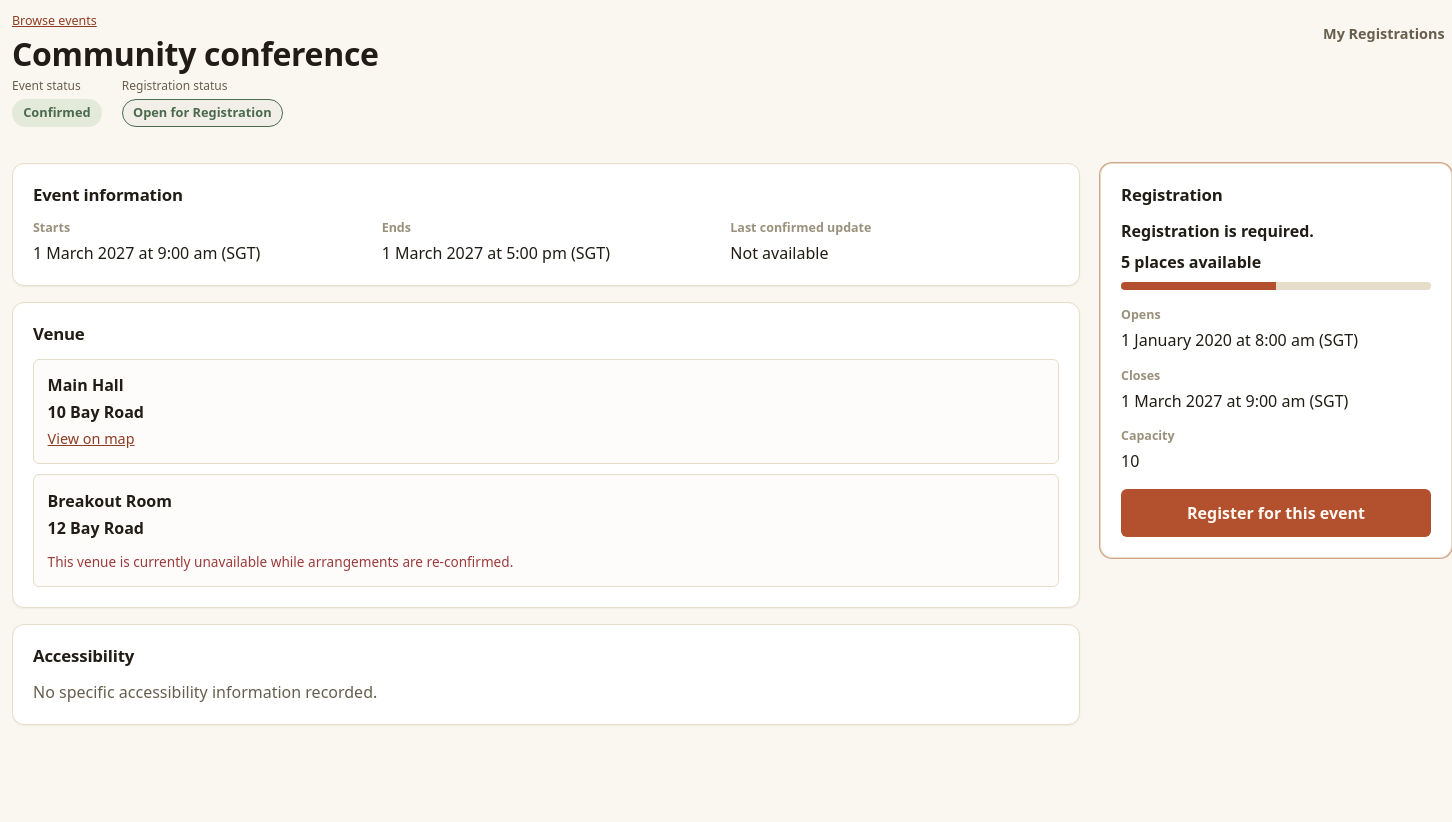
AT09 AT03 registration confirmation › AT03 AT01 (negative): a rejected registration shows its error and no confirmation
The width and height of the screenshot is (1452, 822).
Click the button "Register for this event" at (1276, 513), box [1121,489,1431,537]
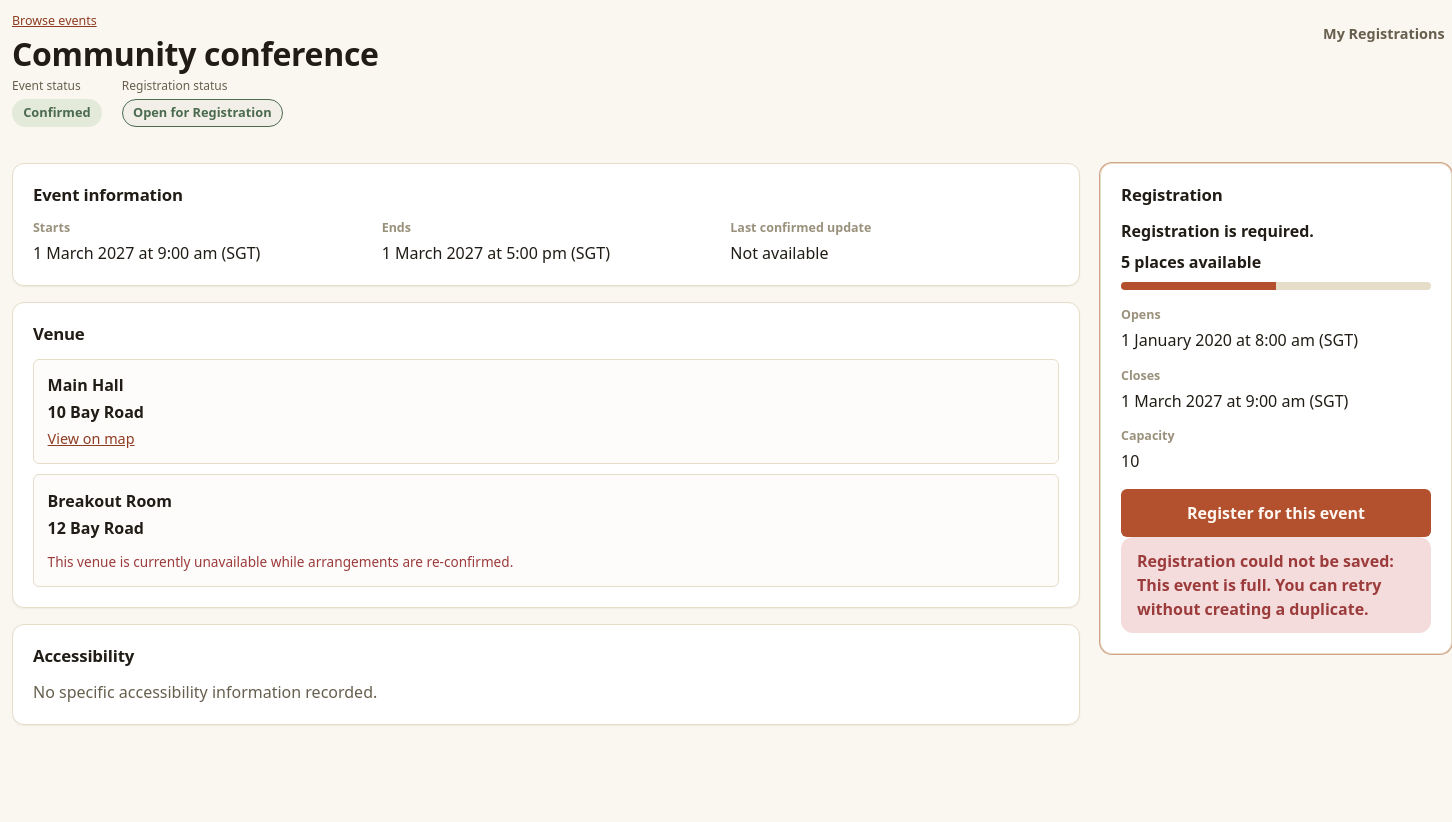
Now the 1st message shows "This event is full", box [1137,550,1394,596]
